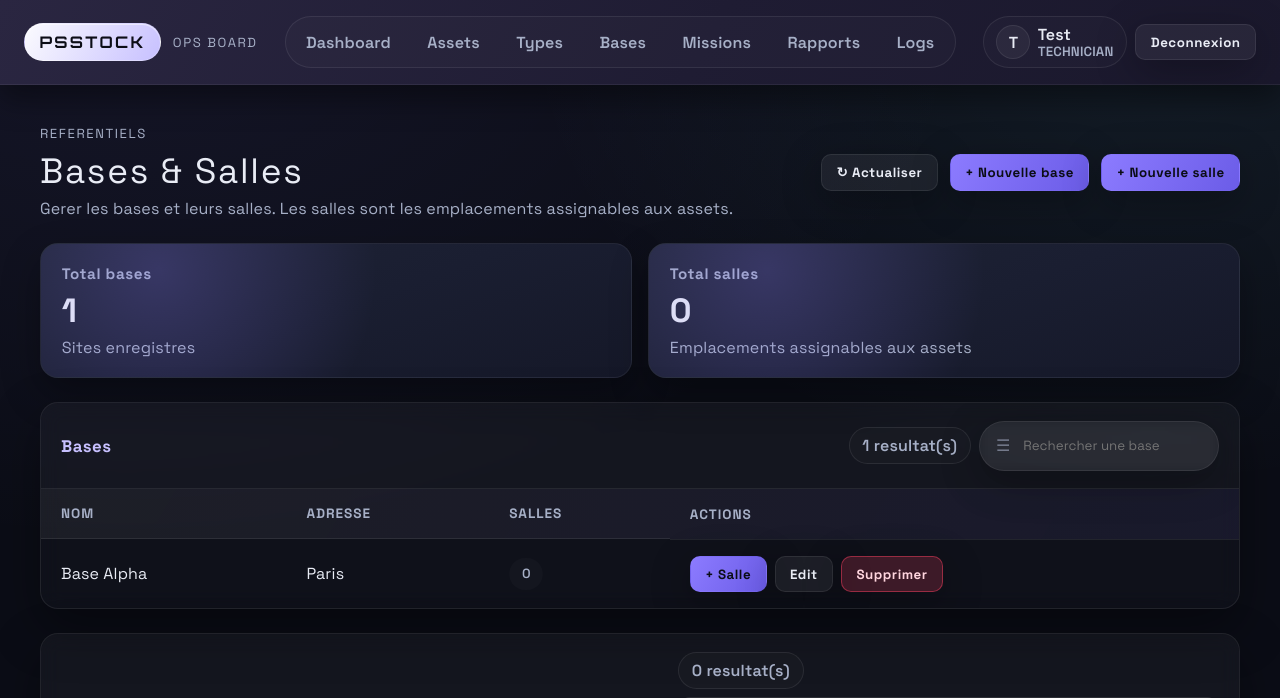
Scenario: BasesPage – technician role › opens create modal on button click
Click the button "+ Nouvelle base" at [1020, 172], box top-left (950, 154), bottom-right (1089, 191)
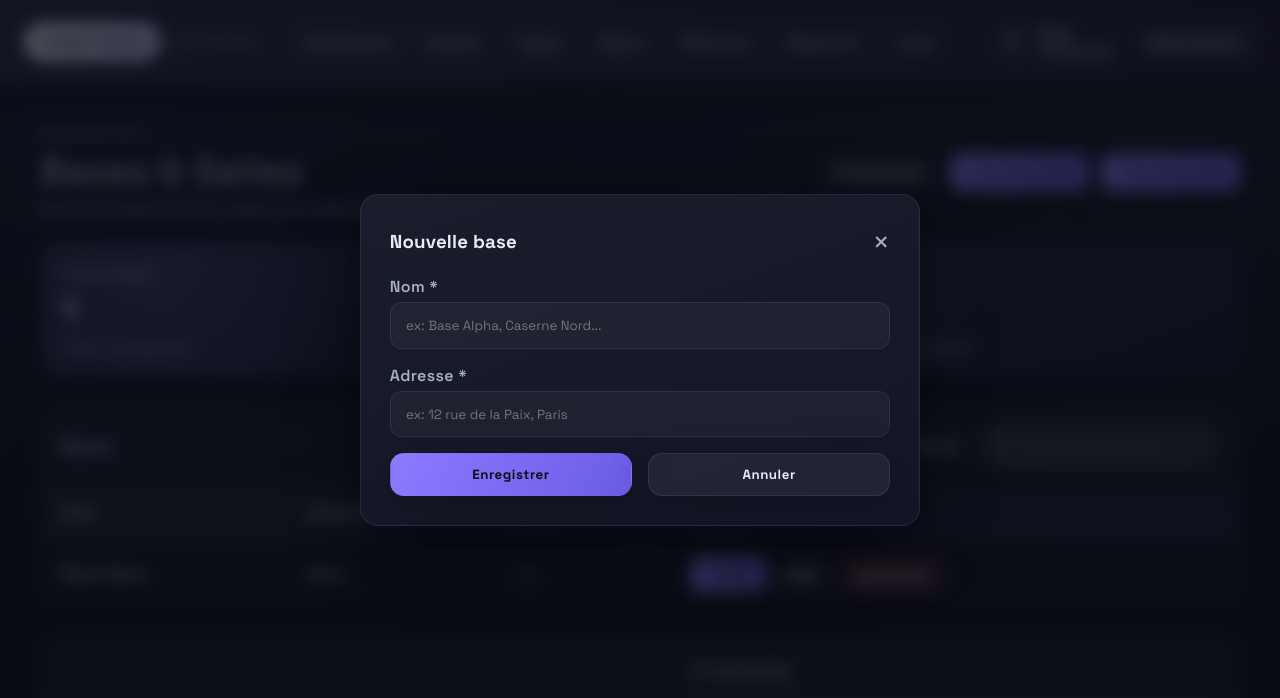
Expected: the field with placeholder "ex: Base Alpha, Caserne Nord..." is shown, top-left (390, 302), bottom-right (890, 348)
